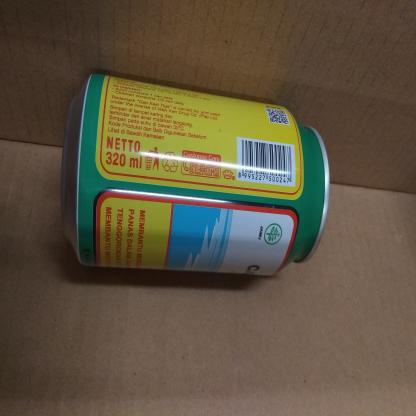bottle: (56, 61, 333, 282)
